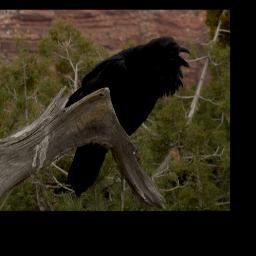Crow: (64, 36, 193, 198)
